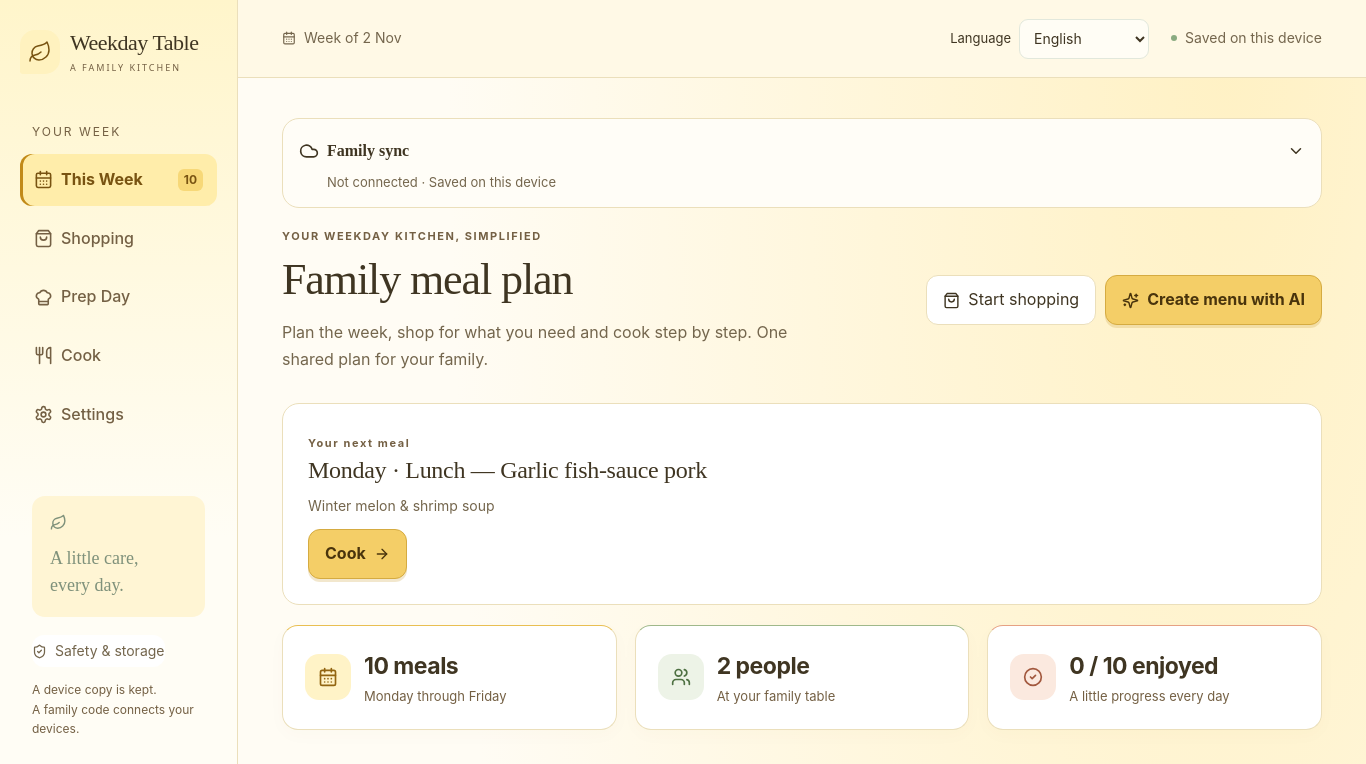
family sync UI › connects with Enter and keeps the compact controls accessible after connecting
Expected: the navigation bar is shown, [20,154,217,440]
Click the button "Family sync". click: (368, 150)
box: [299,129,1305,173]
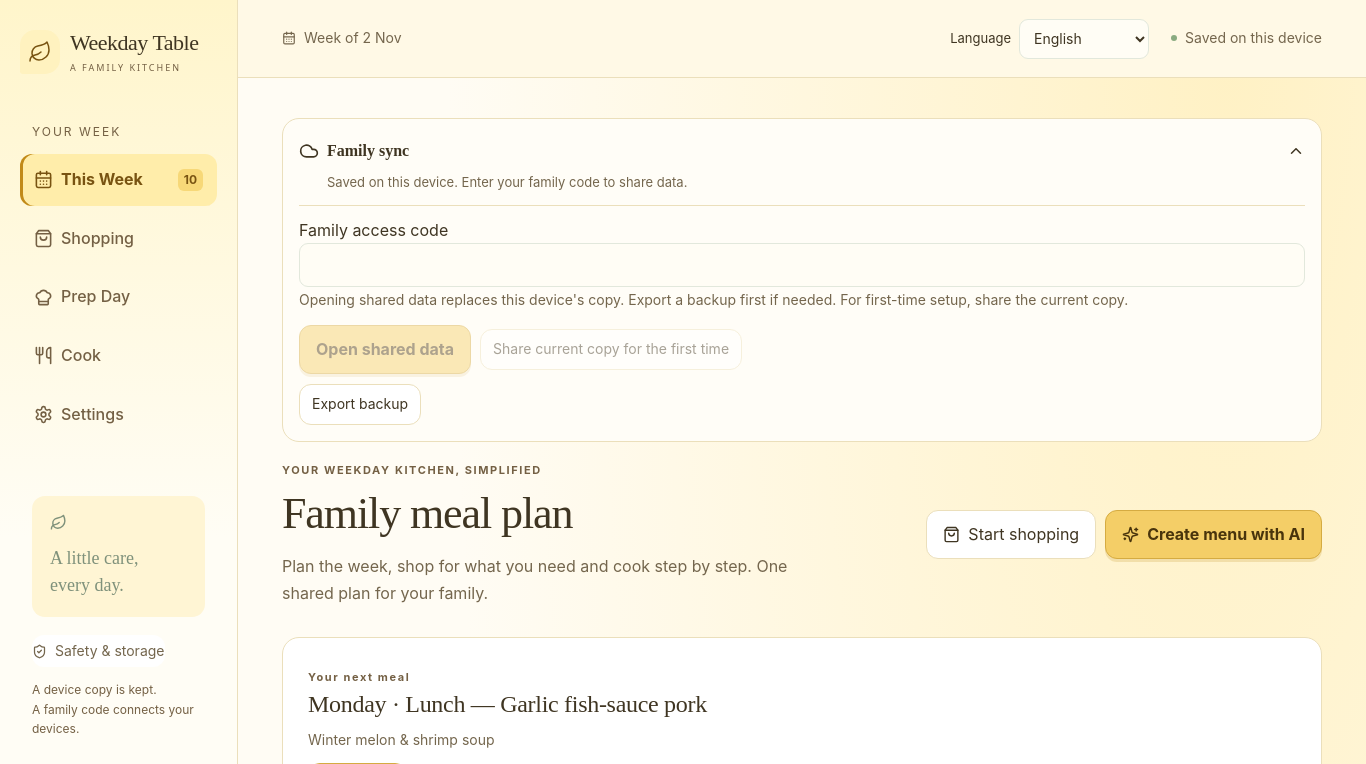
Type "test-only-family-access-code" into the password field labelled "Family access code". click: (802, 265)
box: [299,243,1305,288]
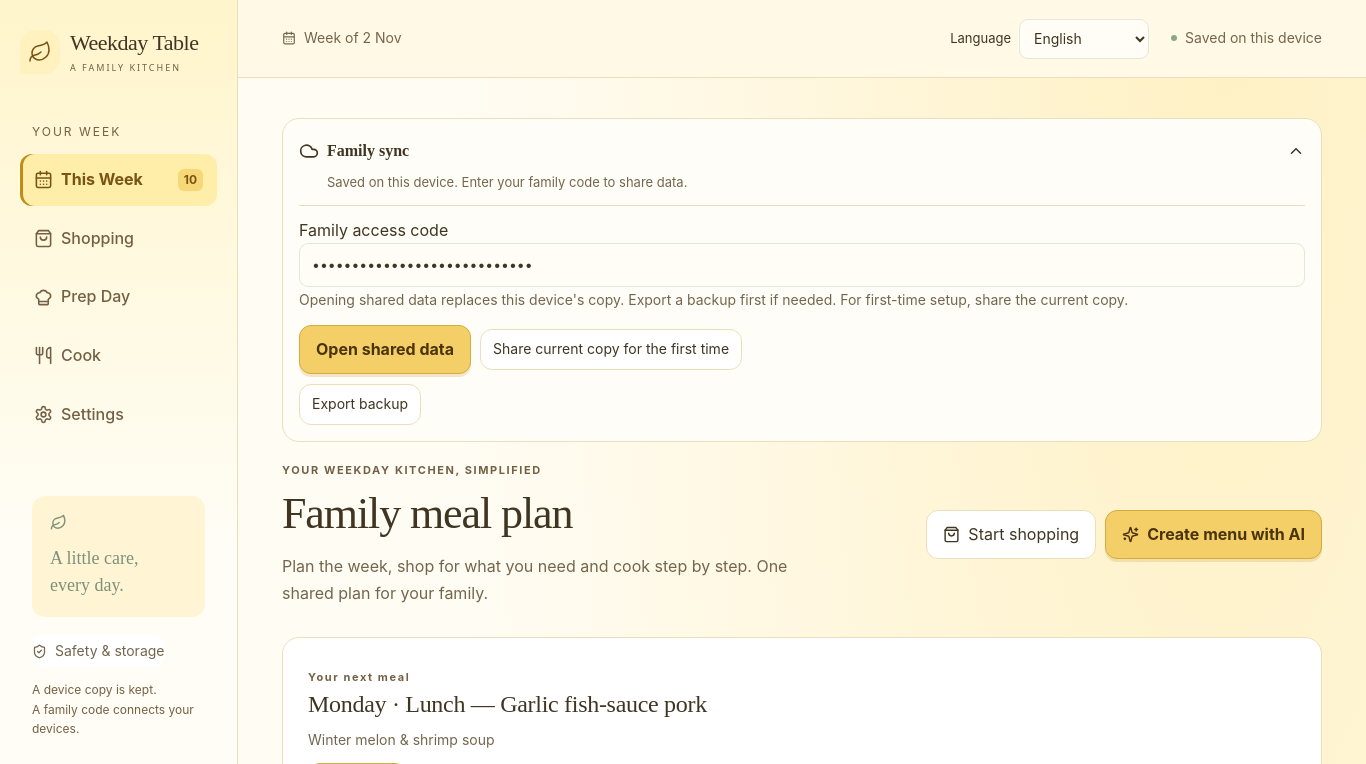
Now the button "Family sync" is expanded, box [299,129,1305,173]
Press Enter in the password field labelled "Family access code", box [299,243,1305,288]
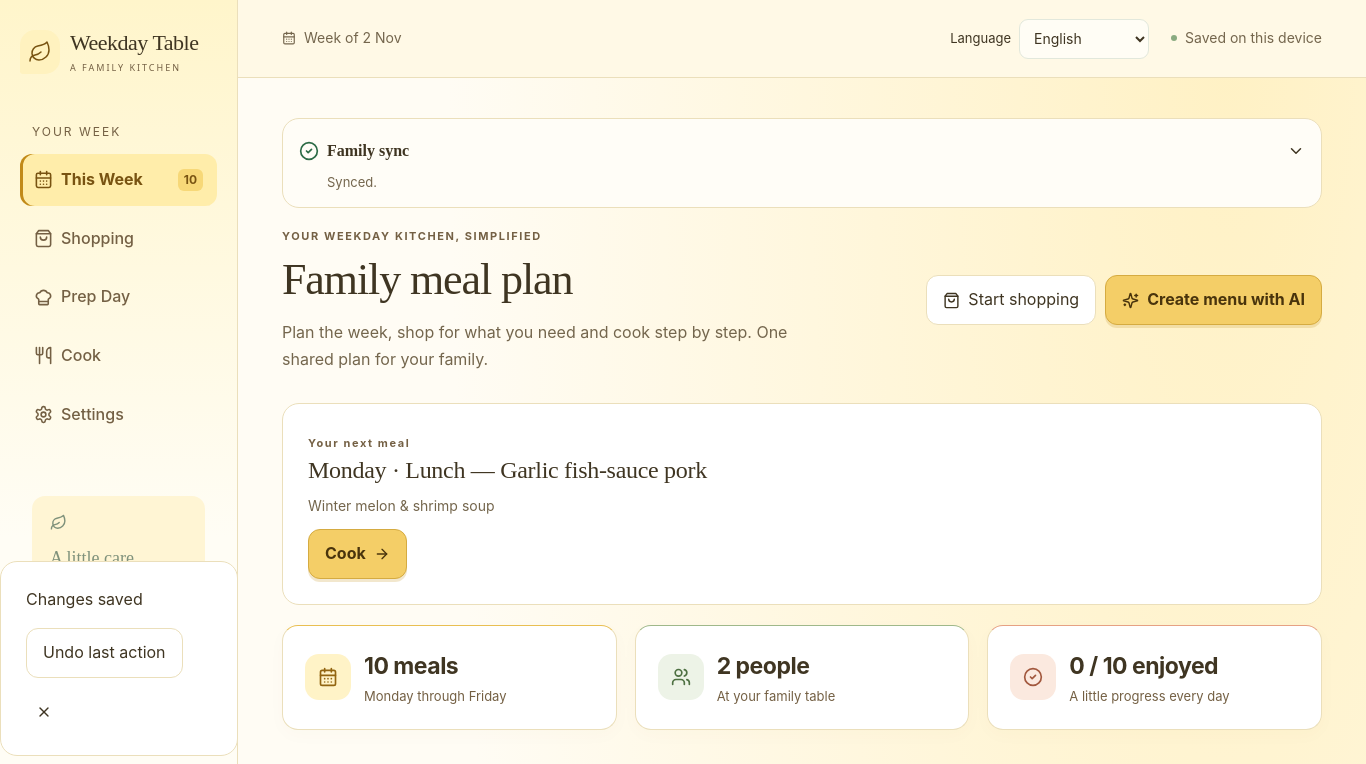
Now the text "Synced." is shown, box [327,174,377,190]
Now the button "Family sync" is collapsed
Click the button "Family sync". click: (368, 150)
box: [299,129,1305,173]
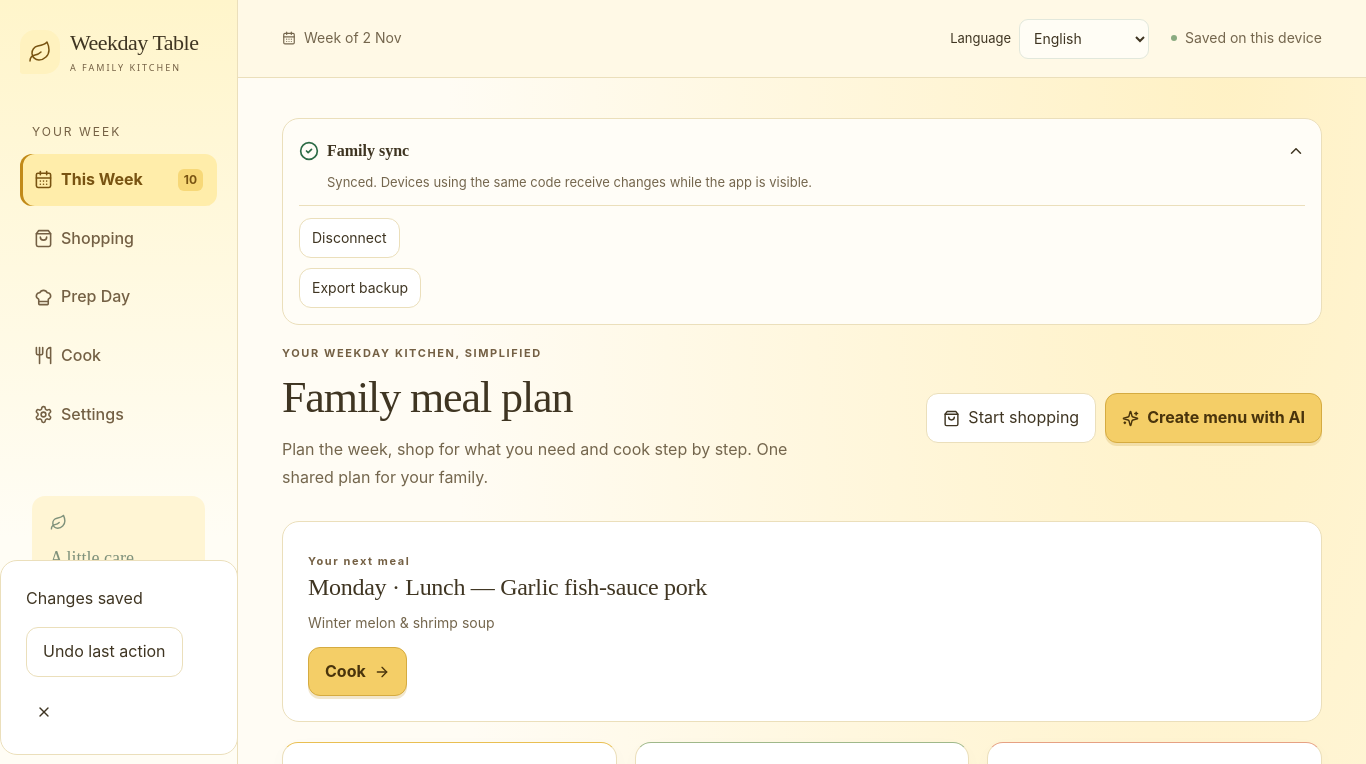
Now the button "Disconnect" is shown, box [299,218,400,258]
